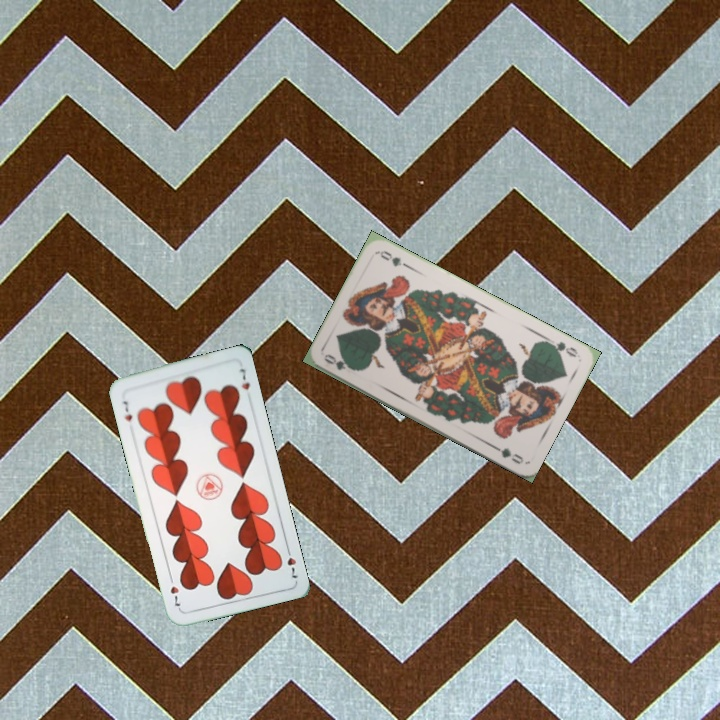GO: (543, 334, 580, 360), (320, 350, 360, 373)
H7: (282, 542, 300, 581), (119, 397, 135, 424)
